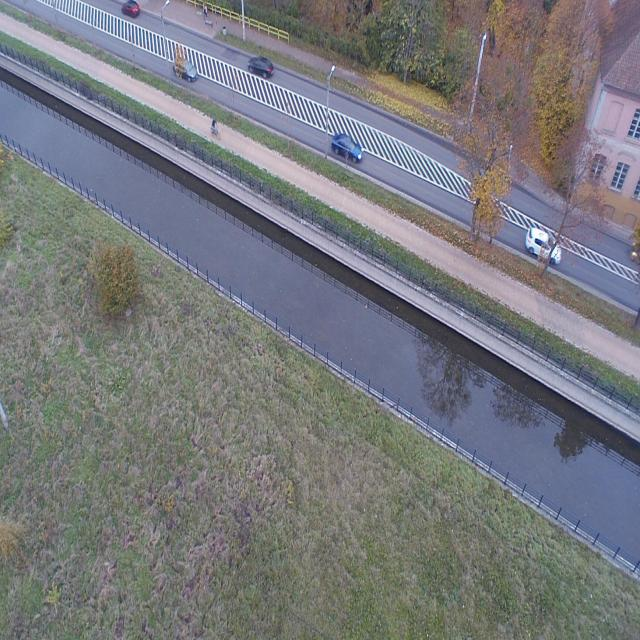p3rson: (212, 118, 217, 134), (204, 4, 207, 18)
